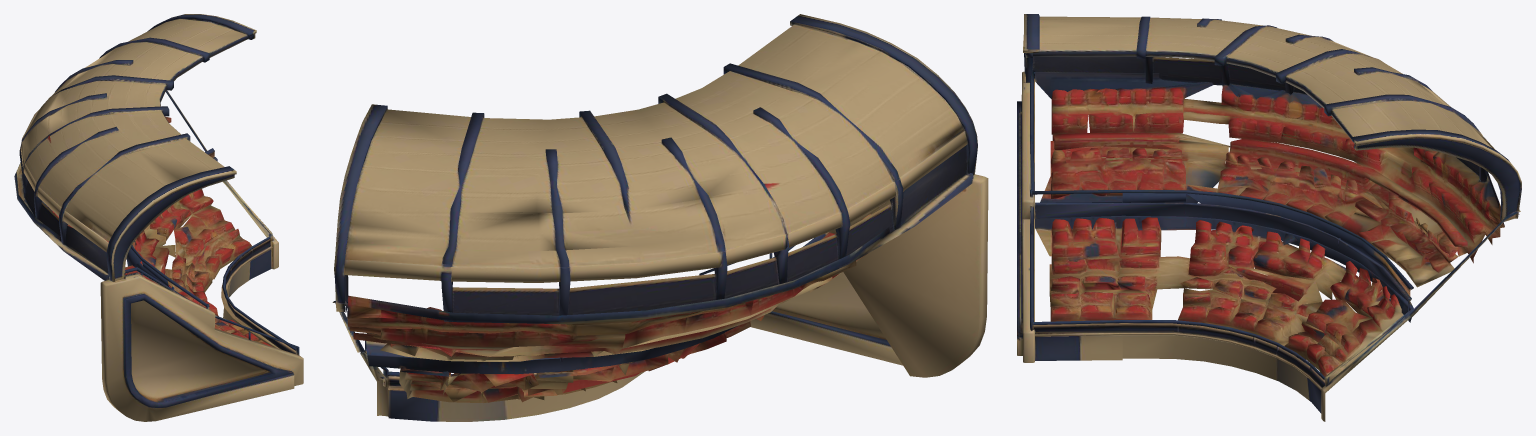
Rendered from corner-stand.glb.
3 renders of one model, left to right at view 1: azimuth 30°, elevation 25°; view 2: azimuth 150°, elevation 25°; view 3: azimuth 270°, elevation 25°, orthographic. The views are drawn at different scales.
Visible parts, largest first — view 1: Corner empty grandstand; view 2: Corner empty grandstand; view 3: Corner empty grandstand.
Boxes of the visible parts, x1=… form: Corner empty grandstand: x1=14, y1=14, x2=303, y2=421; Corner empty grandstand: x1=332, y1=14, x2=988, y2=421; Corner empty grandstand: x1=1017, y1=14, x2=1521, y2=421.
Bounding box in the file's own units: 0.8184 × 0.5996 × 0.998.
1 material, 1 textured.
